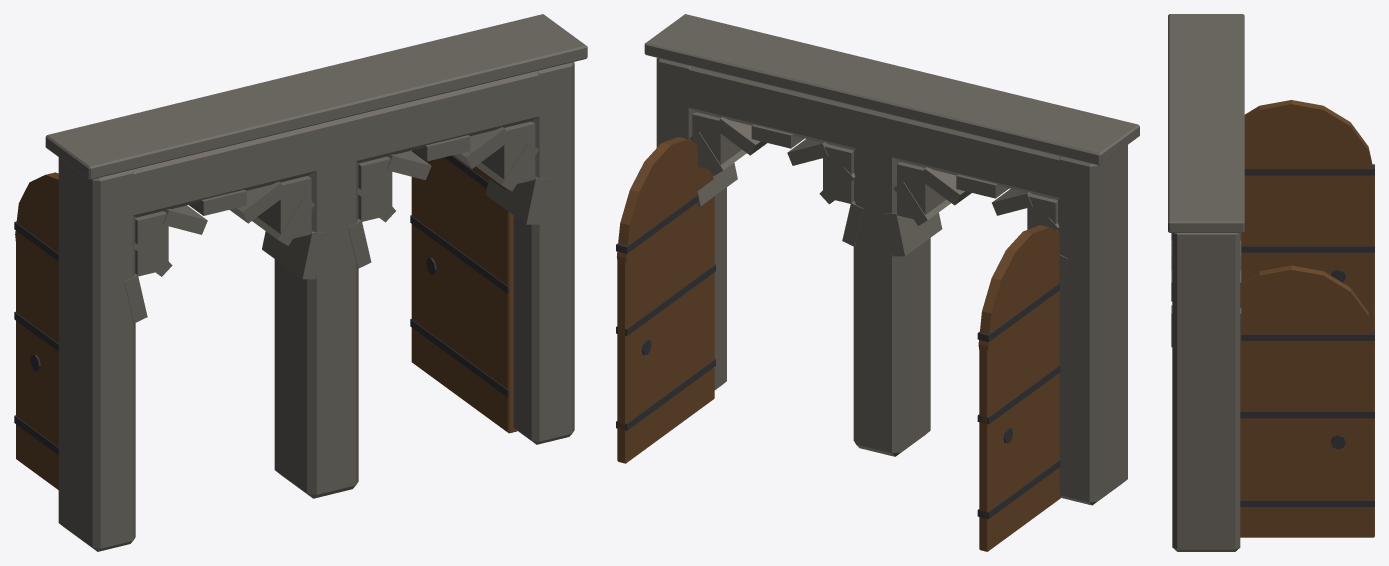
The model's file is Bld_Lab_TwinDoors_Open.glb.
The picture shows the model from 3 angles, left to right: view 1: azimuth 30°, elevation 25°; view 2: azimuth 150°, elevation 25°; view 3: azimuth 270°, elevation 25°; orthographic projection. The views are drawn at different scales.
Visible parts, largest first — view 1: Bld_Lab_TwinDoors_Open, Bld_Lab_TwinDoors_Open_DoorB, Bld_Lab_TwinDoors_Open_DoorA; view 2: Bld_Lab_TwinDoors_Open, Bld_Lab_TwinDoors_Open_DoorB, Bld_Lab_TwinDoors_Open_DoorA; view 3: Bld_Lab_TwinDoors_Open, Bld_Lab_TwinDoors_Open_DoorB, Bld_Lab_TwinDoors_Open_DoorA.
Part boxes in pixels (box(x1,y1,x2,y2)): Bld_Lab_TwinDoors_Open: box(45, 14, 587, 551); Bld_Lab_TwinDoors_Open_DoorB: box(410, 150, 517, 433); Bld_Lab_TwinDoors_Open_DoorA: box(14, 172, 58, 489); Bld_Lab_TwinDoors_Open: box(644, 14, 1139, 505); Bld_Lab_TwinDoors_Open_DoorB: box(616, 137, 715, 463); Bld_Lab_TwinDoors_Open_DoorA: box(977, 225, 1061, 551); Bld_Lab_TwinDoors_Open: box(1168, 14, 1244, 551); Bld_Lab_TwinDoors_Open_DoorB: box(1240, 265, 1374, 537); Bld_Lab_TwinDoors_Open_DoorA: box(1241, 100, 1374, 329).
Size of what is drawn, in the model's own units: 5.8 by 4.35 by 2.43.
